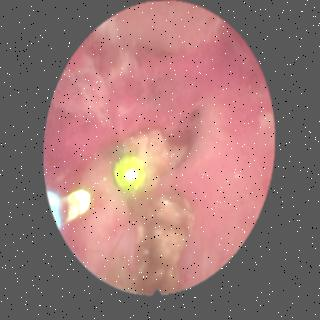laser: (115, 159, 142, 186), (71, 190, 87, 214)
stone: (111, 132, 191, 293)
tissue: (47, 7, 271, 285)
